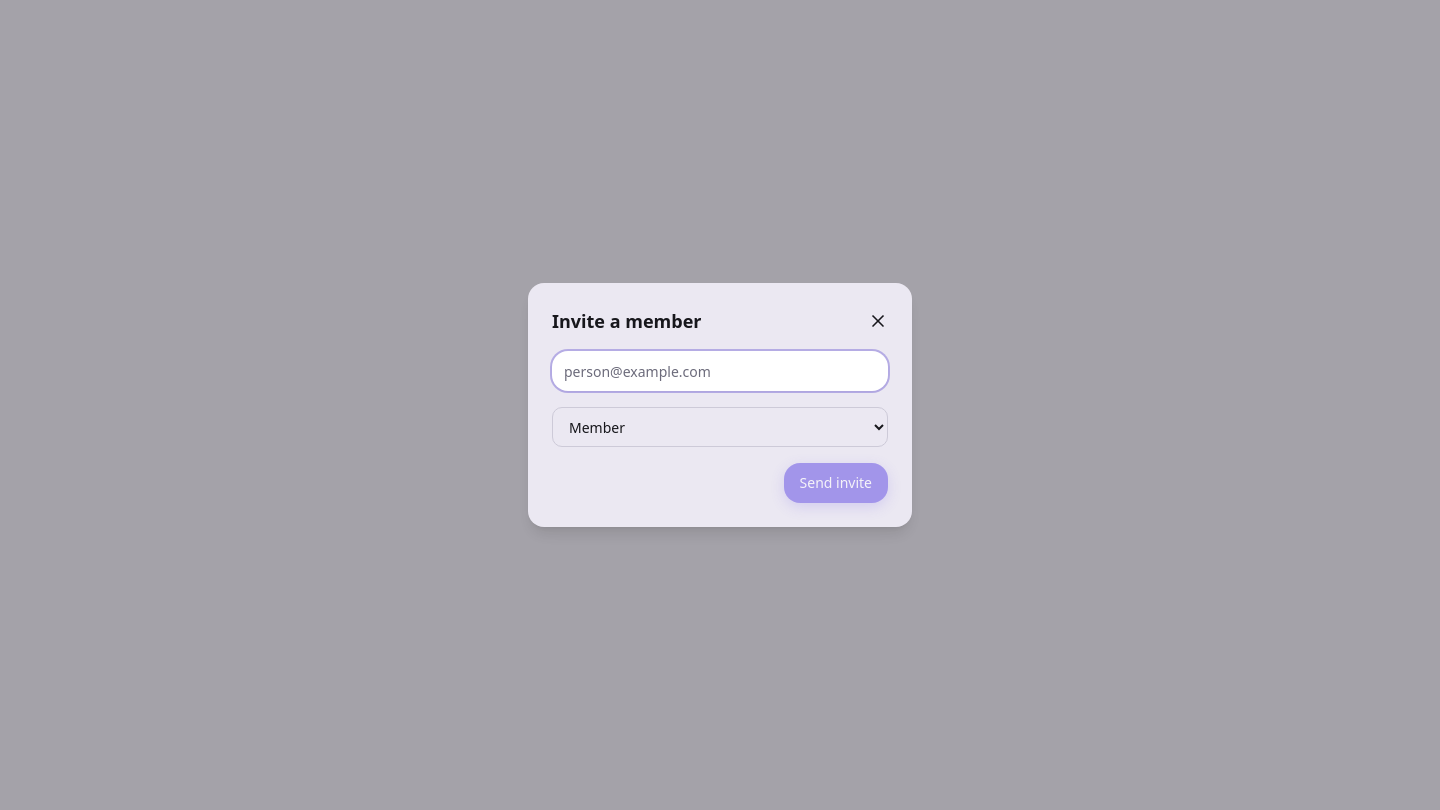
InviteMemberDialog › shows the human error and keeps the dialog open when the email has no account
In the field with placeholder "person@example.com": (720, 371) [552,351,888,391], type "nobody@example.com"
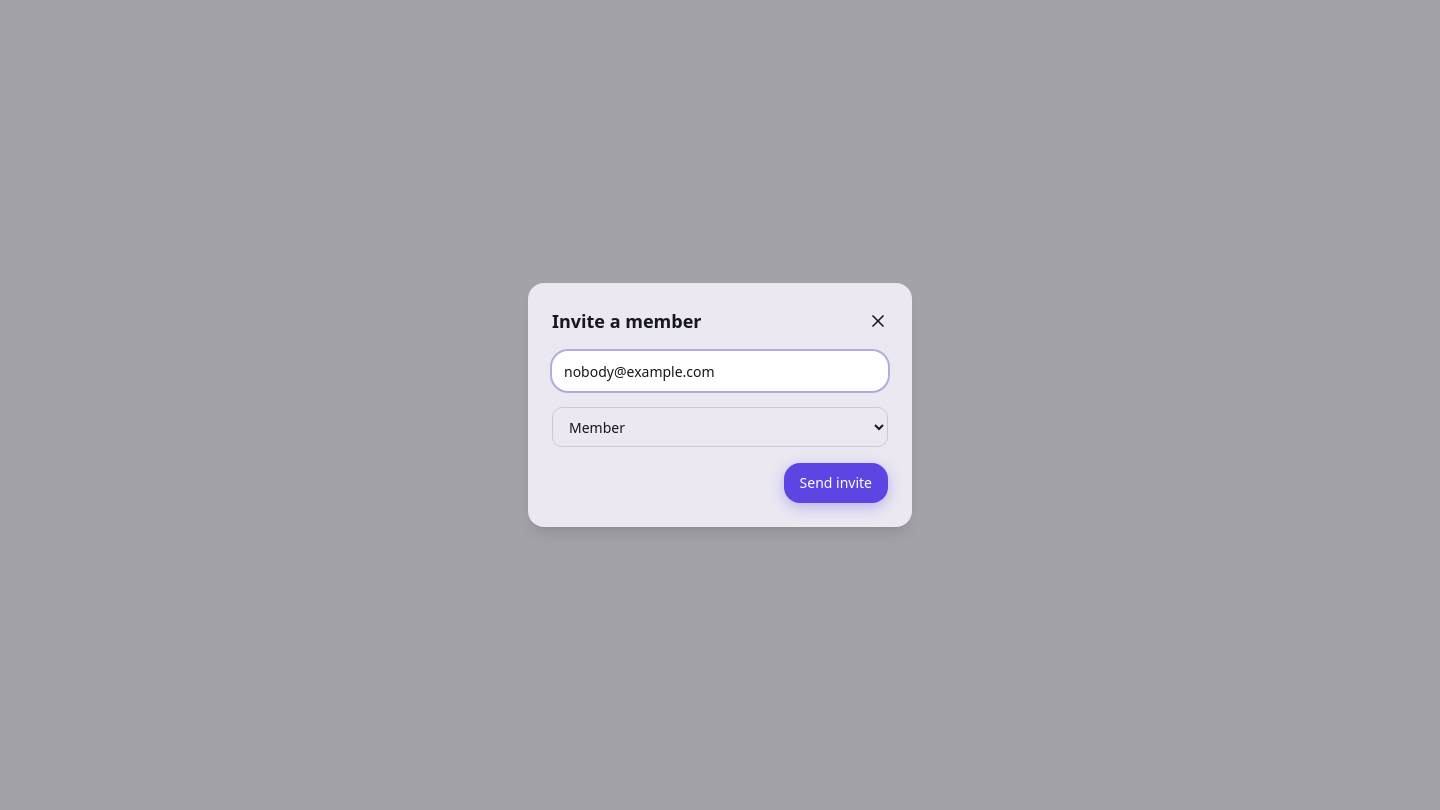
Click the button "Send invite": (836, 483) [784,463,888,503]
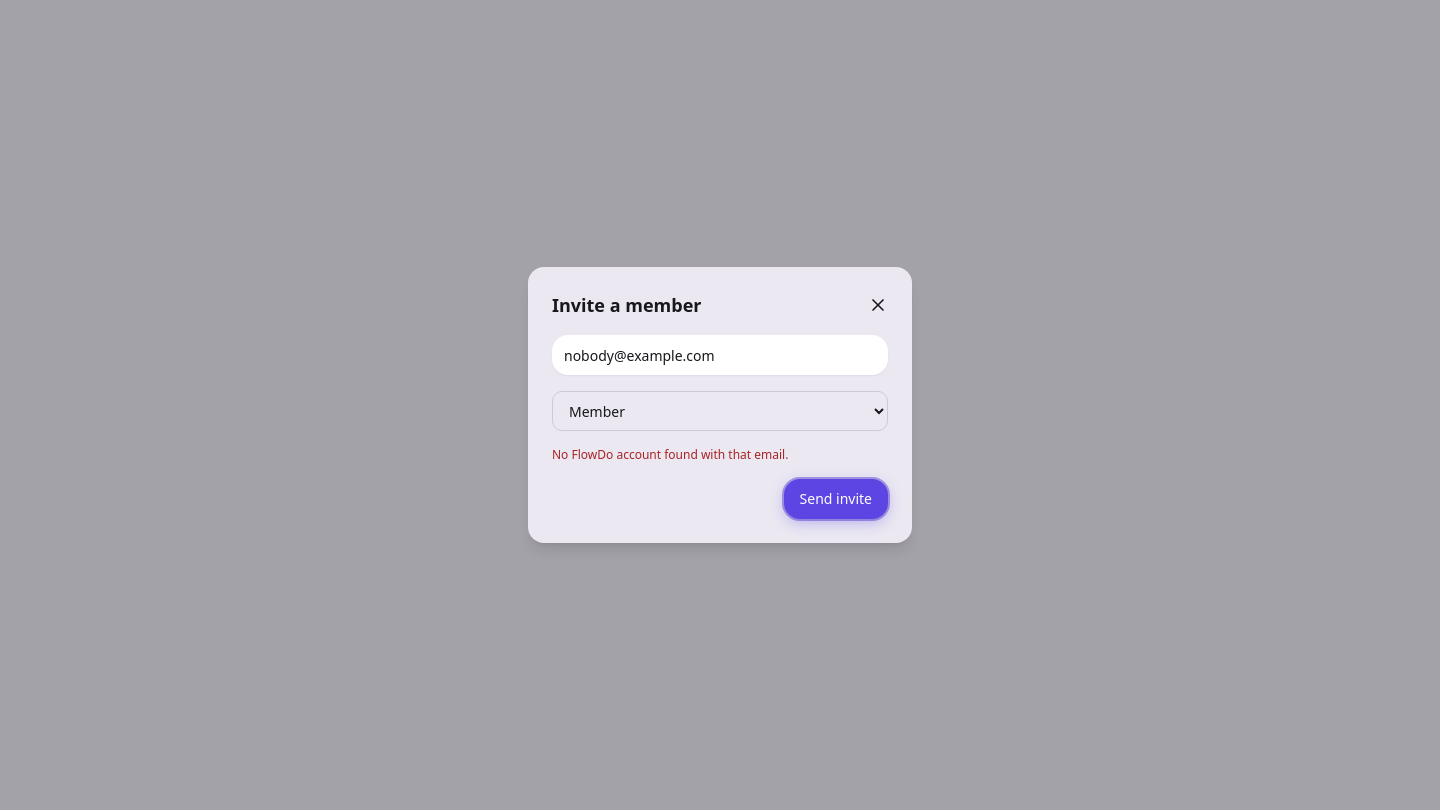
Result: the message shows "No FlowDo account" at [552,446,788,463]
